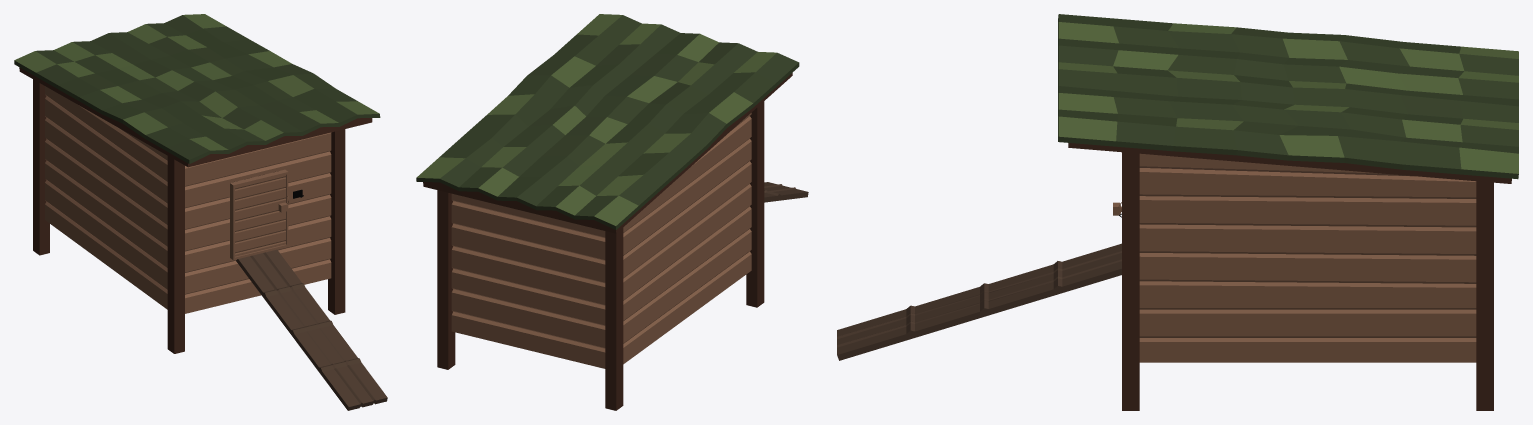
The model's file is Coop_B.gltf.
3 views of the same model, side by side, from view 1: azimuth 30°, elevation 25°; view 2: azimuth 150°, elevation 25°; view 3: azimuth 270°, elevation 25° (orthographic). The views are drawn at different scales.
Visible parts, largest first — view 1: Coop_B, CoopDoor_B; view 2: Coop_B; view 3: Coop_B.
Boxes of the visible parts, x1,y1,x2,y2 form: Coop_B: (14, 14, 387, 410); CoopDoor_B: (230, 169, 289, 260); Coop_B: (416, 14, 808, 410); Coop_B: (837, 14, 1518, 410).
Size of the model in its own units: 0.8279 by 0.8938 by 1.92.
